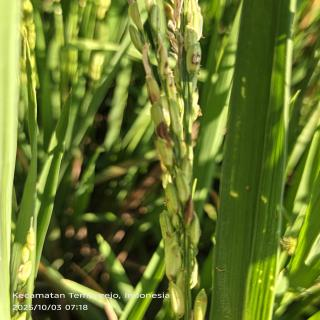Busuk-Bulir: (143, 50, 162, 105), (156, 122, 171, 142), (185, 194, 194, 224)
